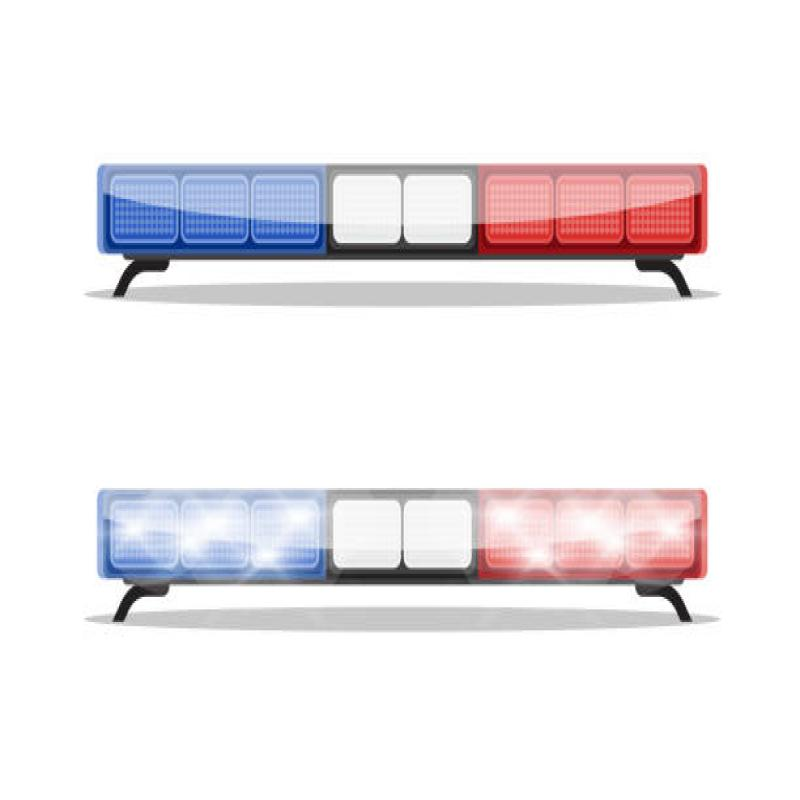AmbulanceSiren: (72, 444, 742, 710), (83, 90, 712, 364)
